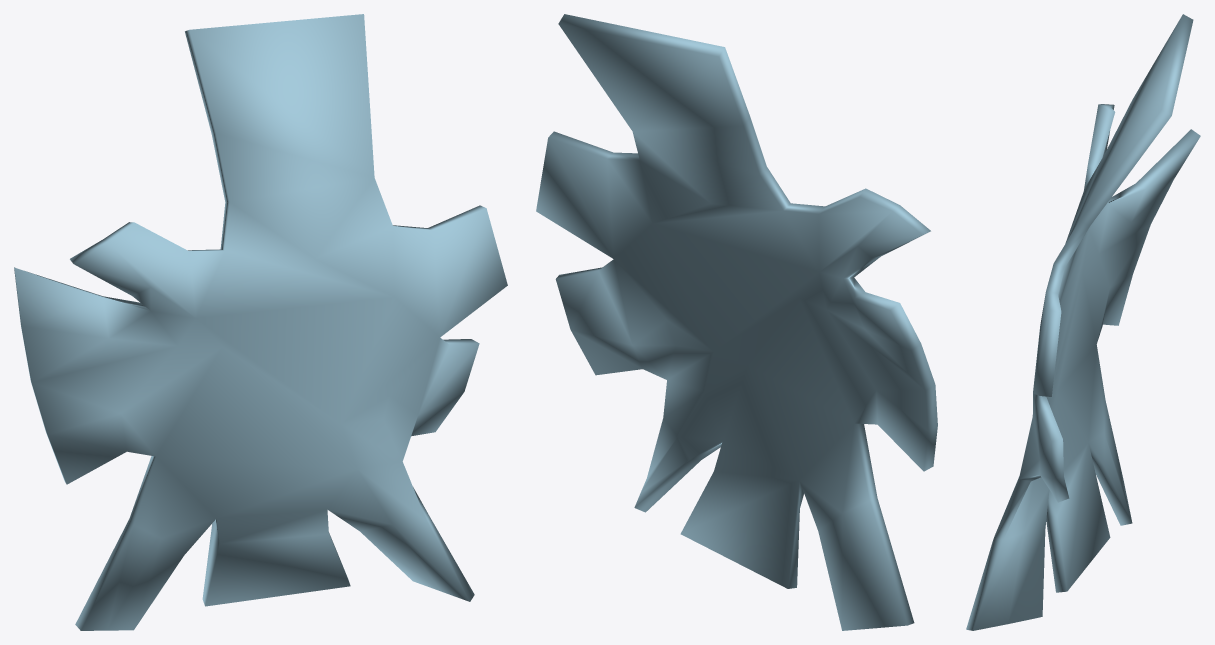
File: articulacoes-radiate-carpal-ligament-l.glb
The picture shows the model from 3 angles, left to right: view 1: azimuth 30°, elevation 25°; view 2: azimuth 150°, elevation 25°; view 3: azimuth 270°, elevation 25°; orthographic projection. The views are drawn at different scales.
Visible parts, largest first — view 1: Radiate carpal ligament.l; view 2: Radiate carpal ligament.l; view 3: Radiate carpal ligament.l.
Part boxes in pixels (x1=…): Radiate carpal ligament.l: x1=14, y1=14, x2=507, y2=630; Radiate carpal ligament.l: x1=536, y1=14, x2=937, y2=630; Radiate carpal ligament.l: x1=966, y1=14, x2=1200, y2=630.
Size of the model in its own units: 0.0201 by 0.0251 by 0.00966.
